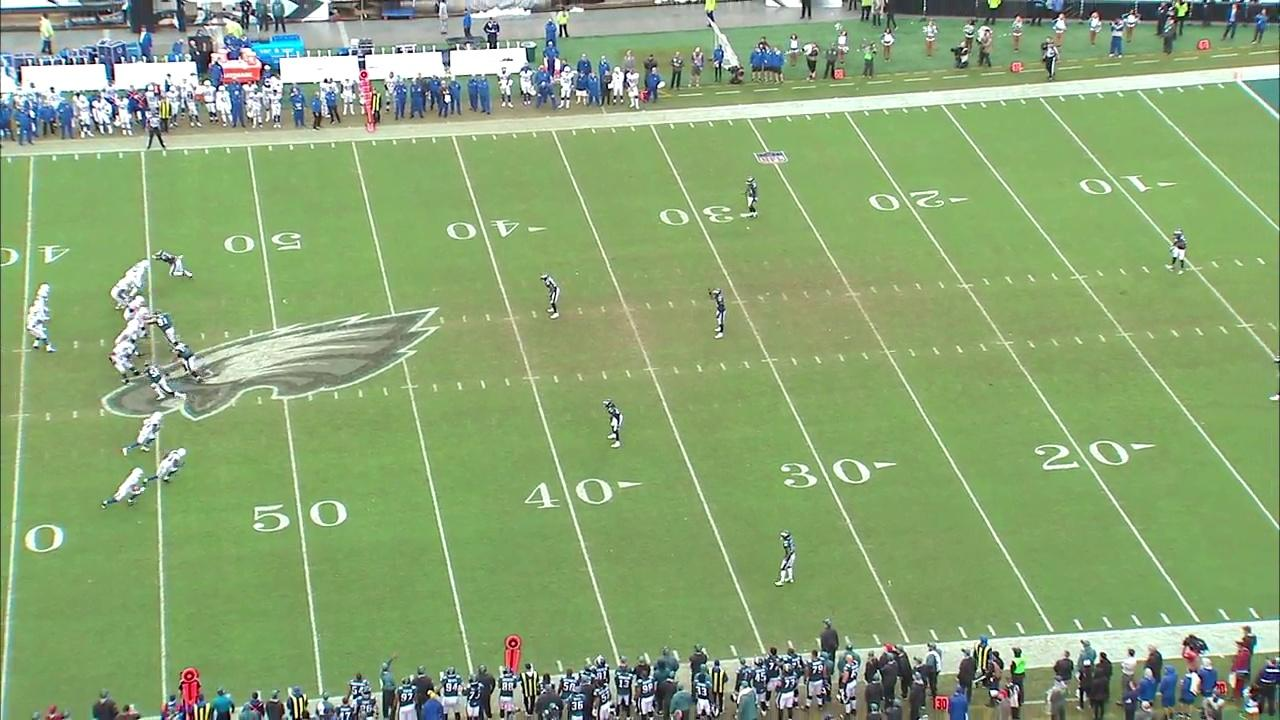defense: (142, 359, 188, 406), (772, 529, 799, 589), (539, 271, 565, 323), (168, 342, 203, 380), (157, 248, 195, 280), (707, 285, 728, 341), (1168, 226, 1190, 274), (604, 398, 625, 446), (150, 308, 178, 341), (743, 172, 760, 220)
oline: (109, 273, 131, 308), (115, 338, 131, 384), (111, 319, 139, 345), (122, 295, 146, 322), (132, 308, 151, 340)
qb: (26, 309, 57, 355)
ref: (1040, 42, 1059, 83), (143, 113, 167, 145)
skill: (102, 464, 148, 511), (123, 409, 164, 460), (144, 443, 190, 487), (126, 259, 156, 300), (33, 277, 52, 309)
